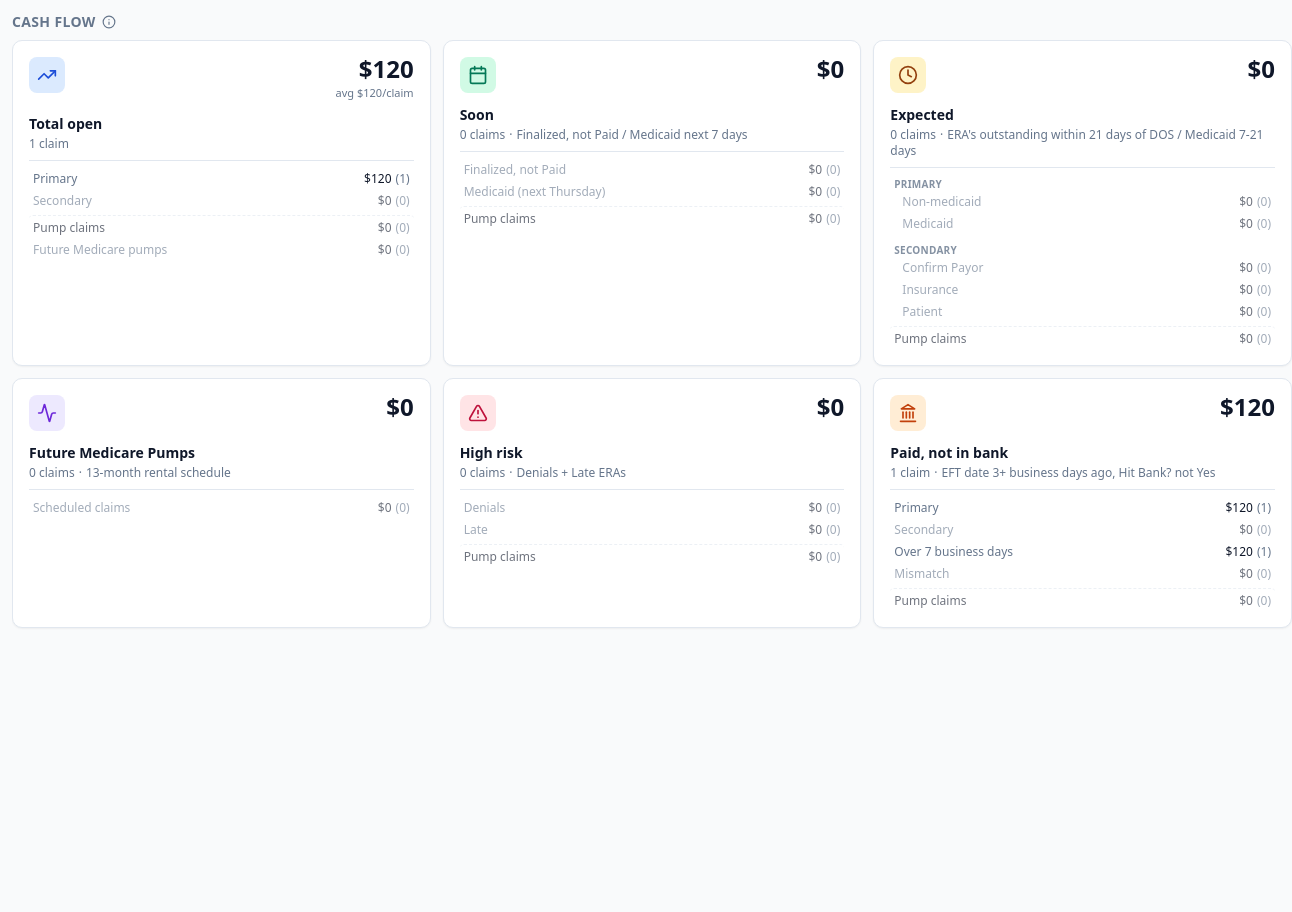
Test: CashFlowSummary › clicking the Paid, not in bank tile lists its claims with bank details
This screenshot has width=1292, height=912.
Click the text "Paid, not in bank" at (949, 452), box [890,443,1008,462]
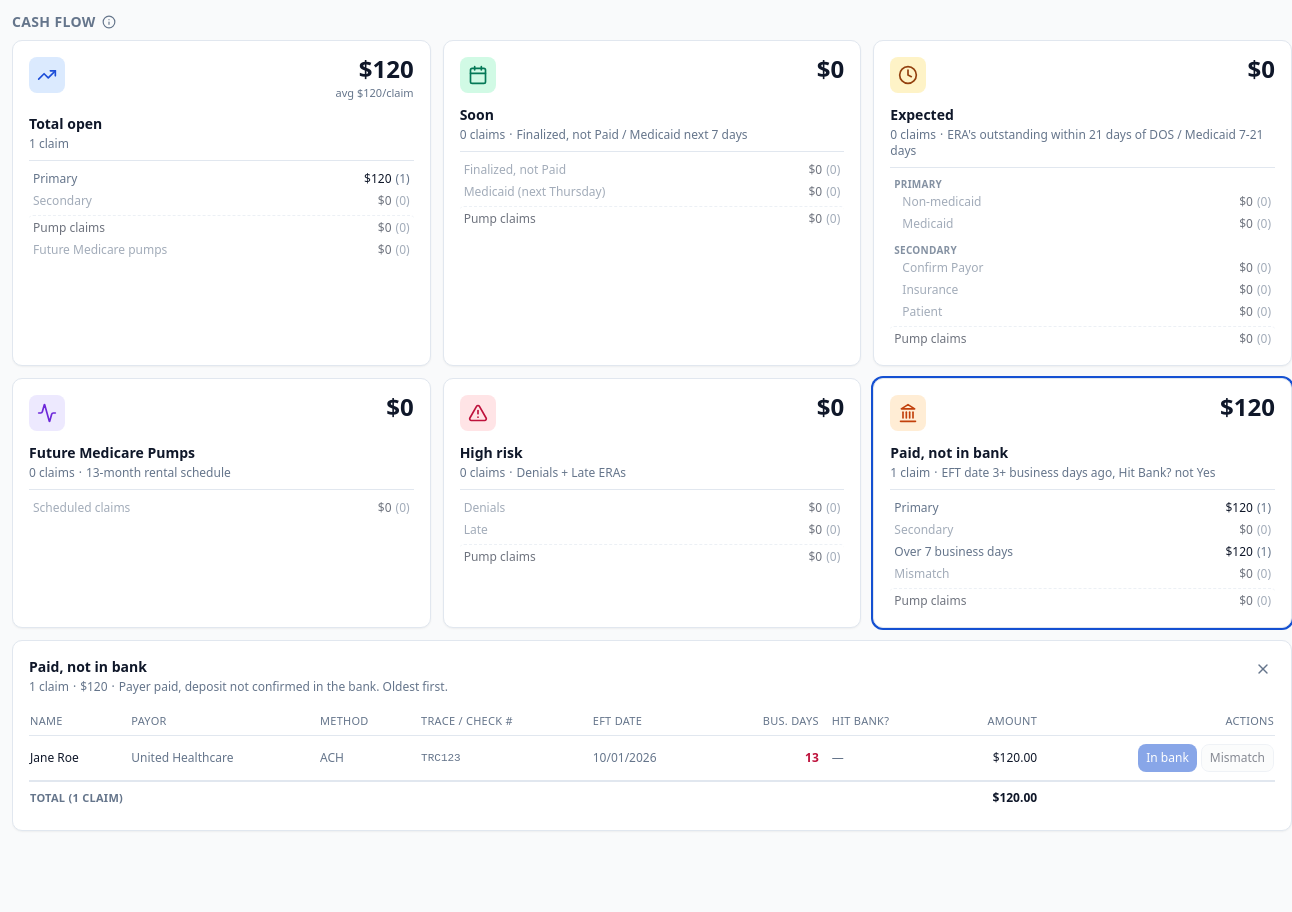
Expected: the button "Jane Roe" is shown, [30,750,79,766]
Expected: the text "TRC123" is shown, [420,736,592,781]
Expected: the button "In bank" is shown, [1138,744,1197,772]
